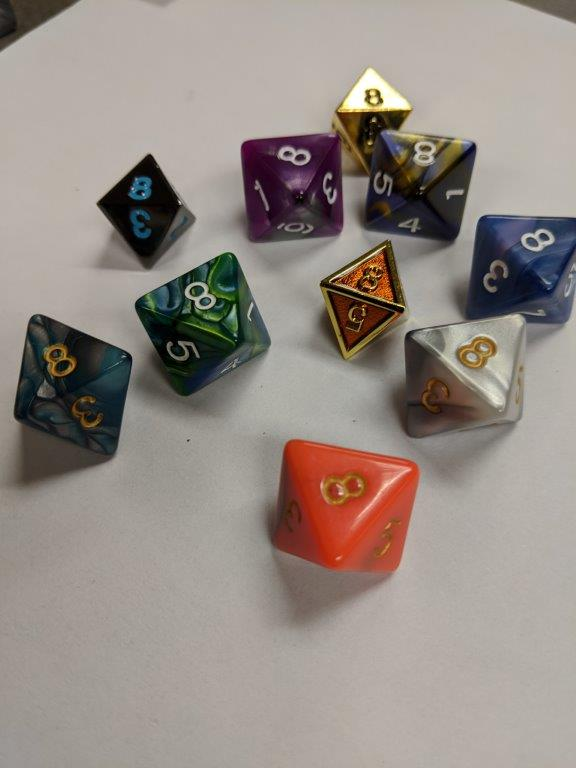d8-8: (270, 436, 427, 577), (8, 308, 137, 461), (135, 253, 273, 395), (405, 313, 529, 440), (358, 129, 477, 243), (463, 213, 576, 325), (98, 151, 200, 272), (242, 130, 342, 236), (319, 238, 406, 359), (330, 64, 411, 130)
